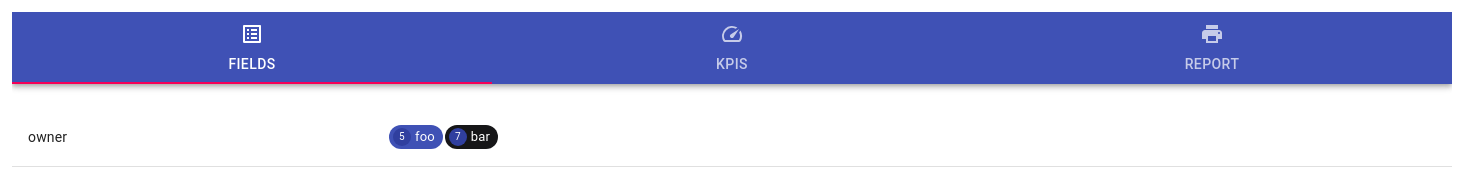
Test: <Facets /> › should display kpis
Click the tab titled "KPIs" at coordinates (732, 48), box [492,12,972,84]
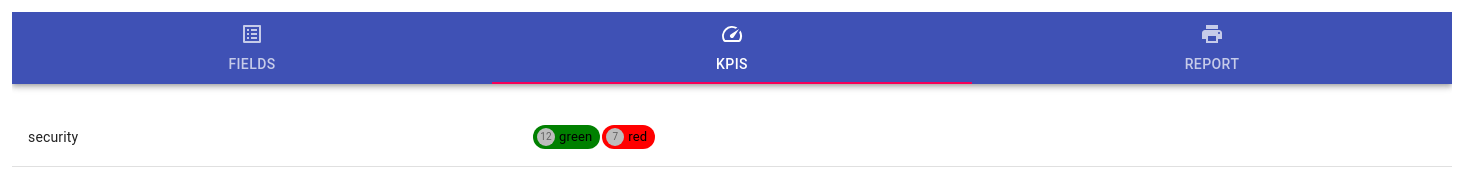
Result: the text "owner" is gone
Result: the text "security" is shown at [28,129,78,145]
Result: the text "green" is shown at [559,129,592,144]
